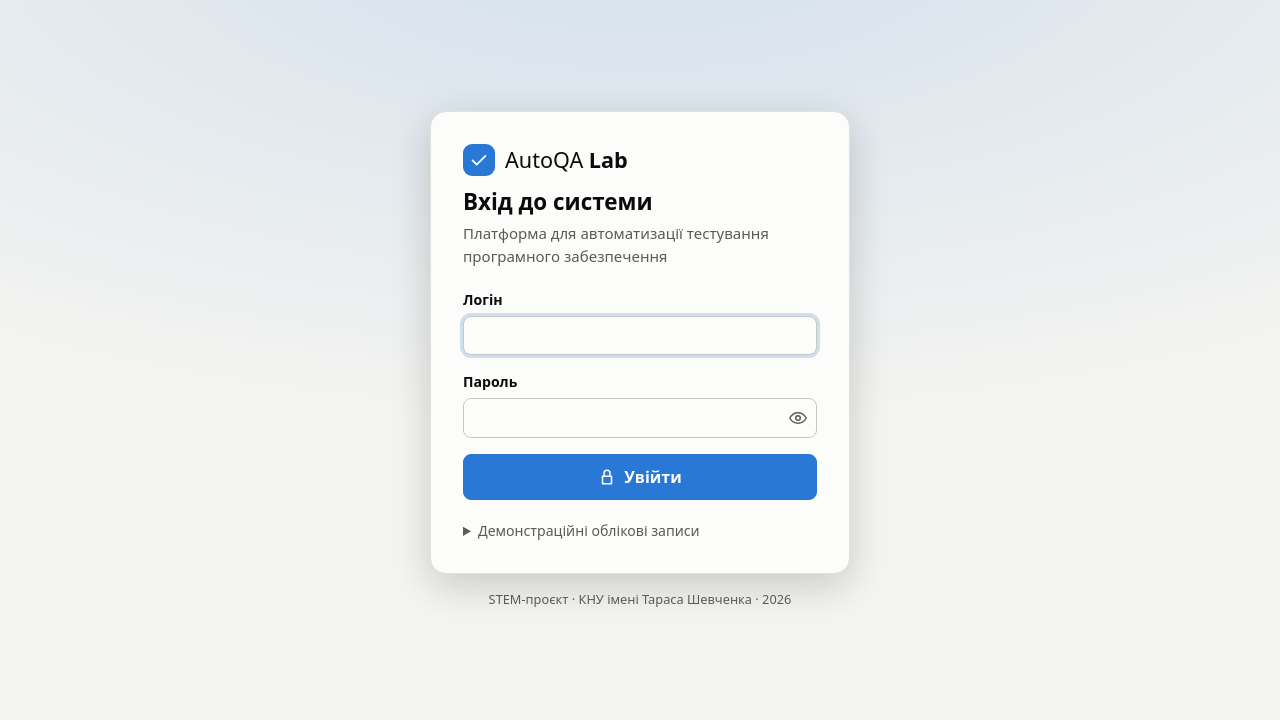
Test: LoginPage › показує помилки валідації та помилку невірного пароля
Click the button "Увійти" at (640, 477), box [463, 454, 817, 500]
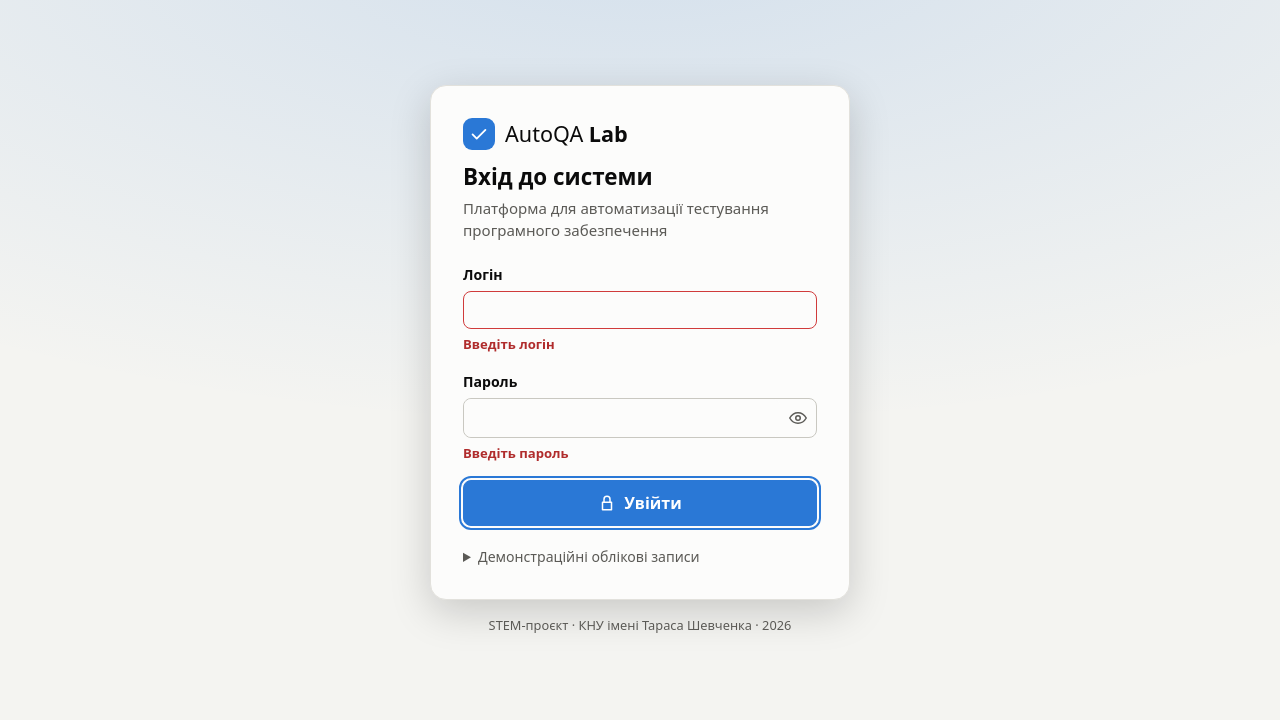
Check: the text "Введіть логін" is shown, box [463, 335, 555, 353]
Type "admin" into the field labelled "Логін" at (640, 310), box [463, 291, 817, 329]
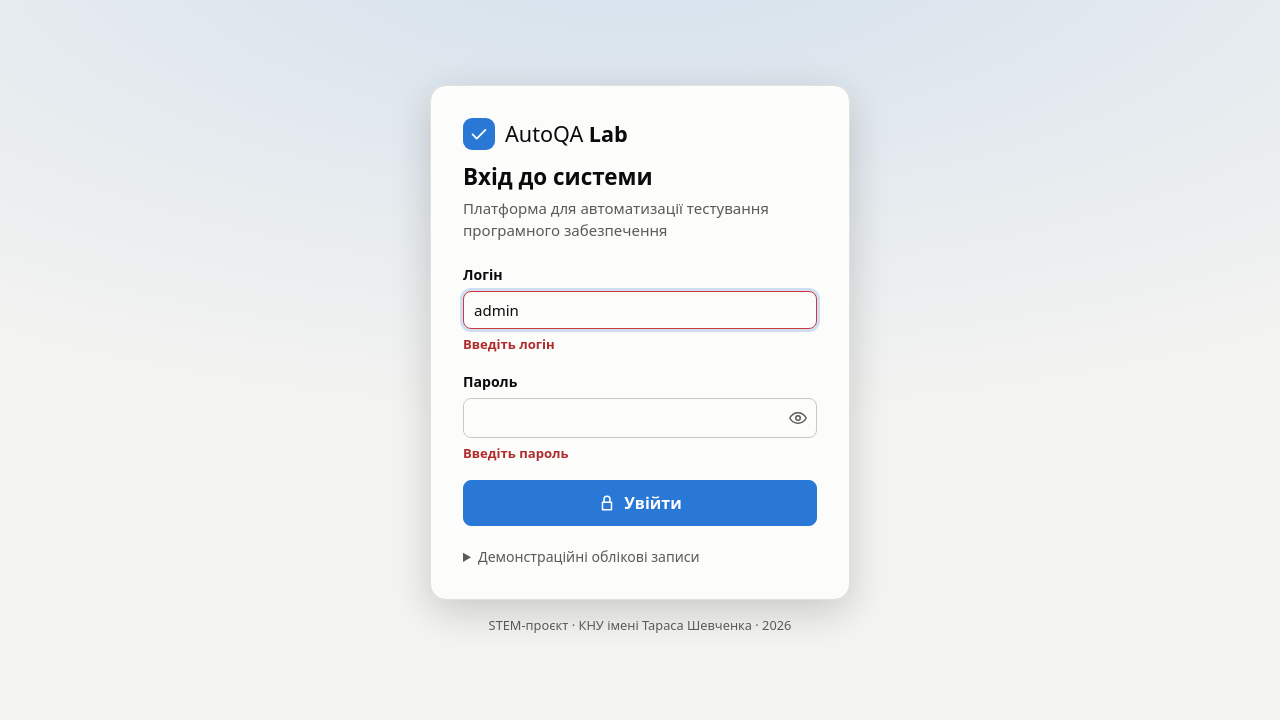
Type "wrong-password" into the password field labelled "Пароль" at (622, 418), box [464, 399, 780, 437]
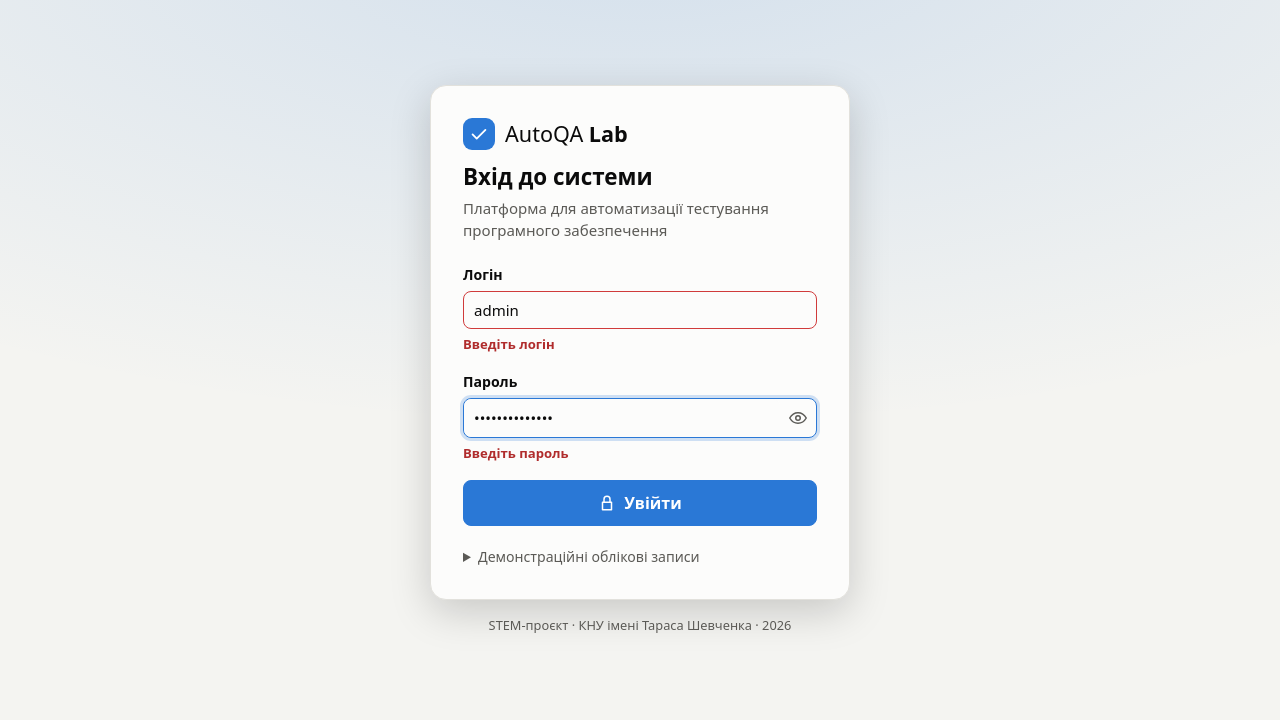
Click the button "Увійти" at (640, 503), box [463, 480, 817, 526]
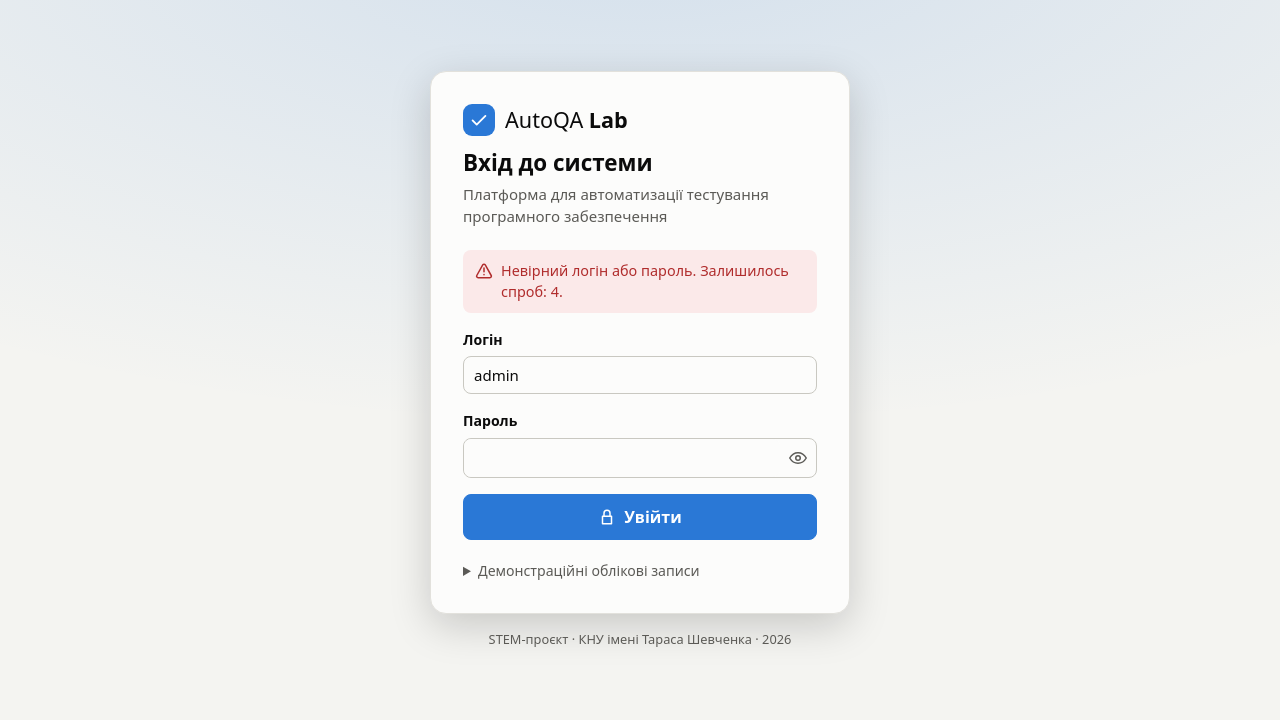
Check: the message shows "Невірний логін або пароль", box [501, 261, 789, 301]
